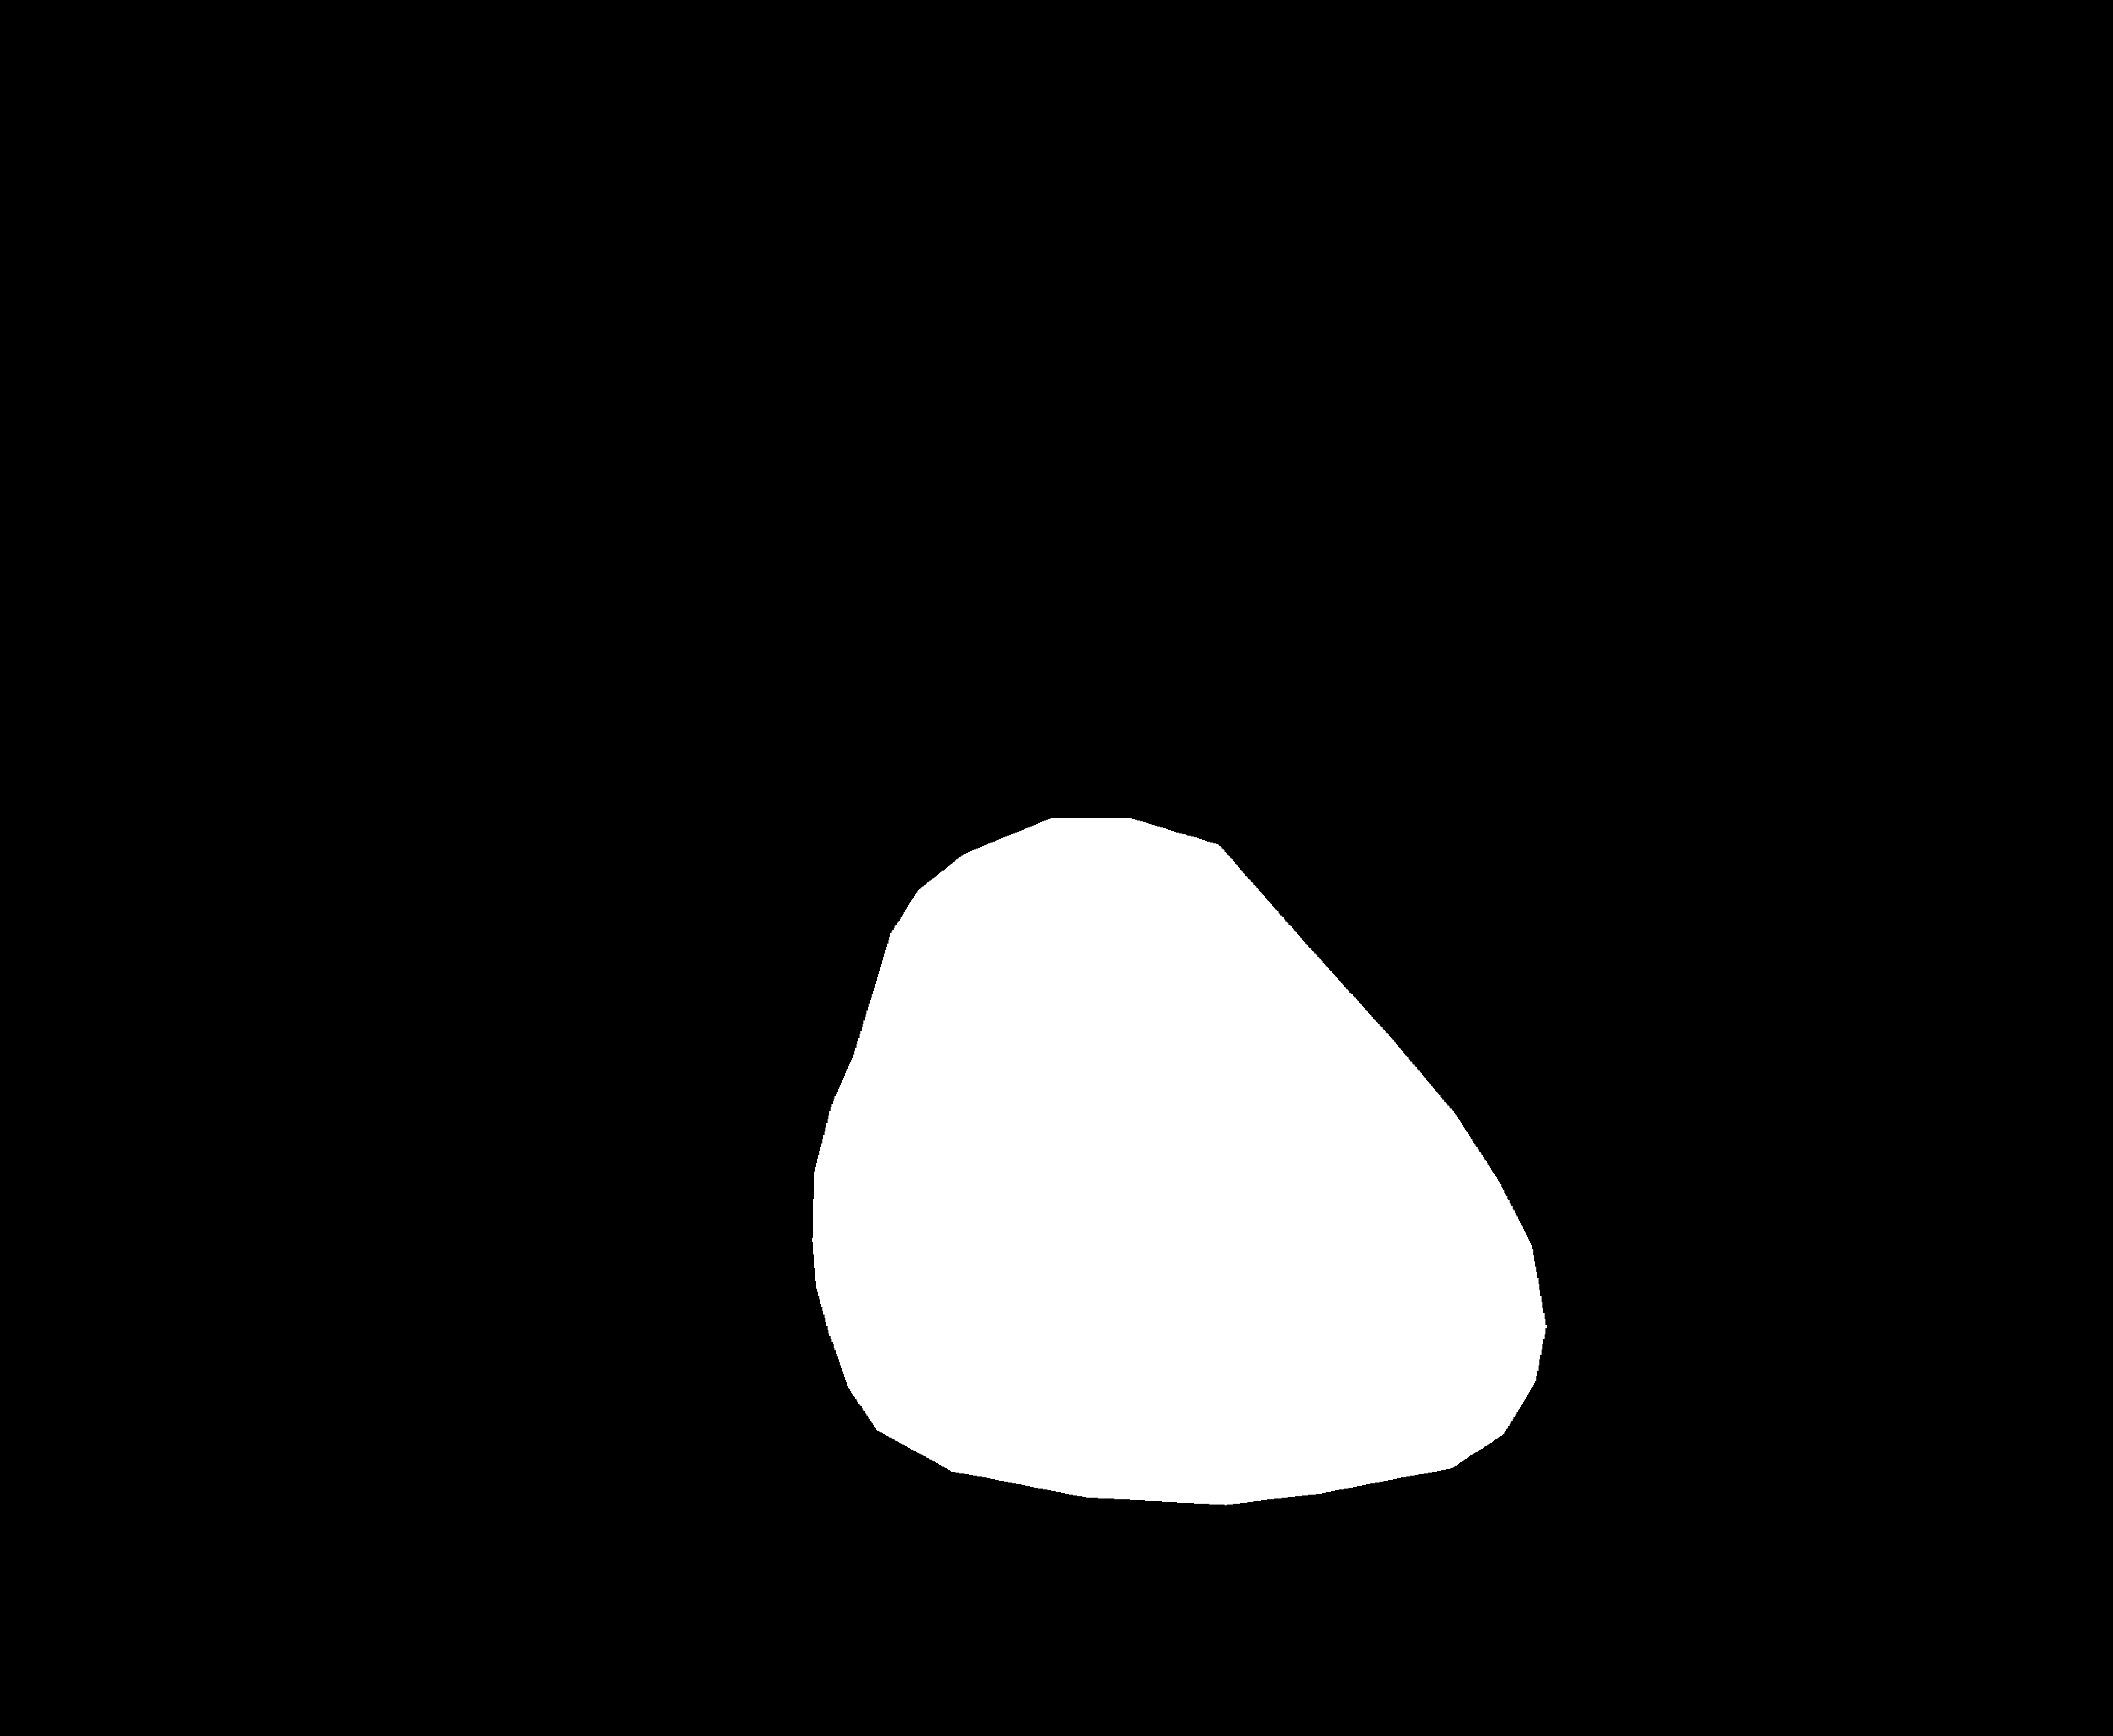heart: (811, 829, 1546, 1503)
left_lung: (284, 258, 986, 1671)
right_lung: (1132, 239, 1850, 1638)
